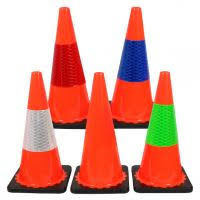cones: (10, 73, 69, 196)
